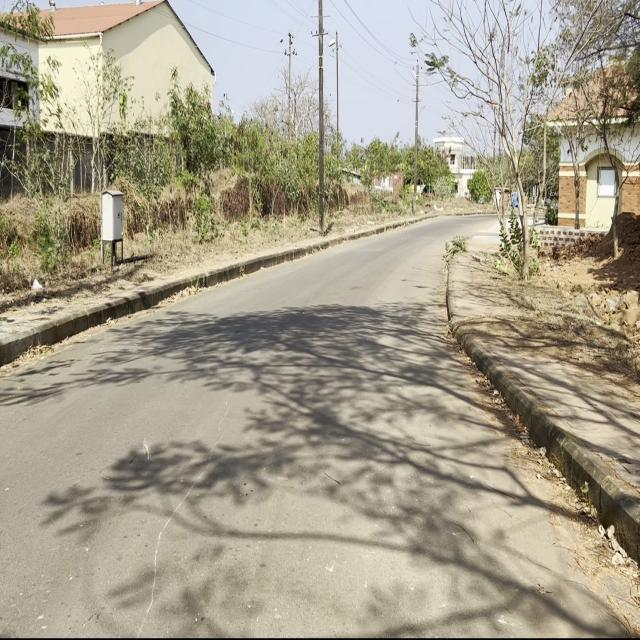Road: (3, 221, 636, 633)
